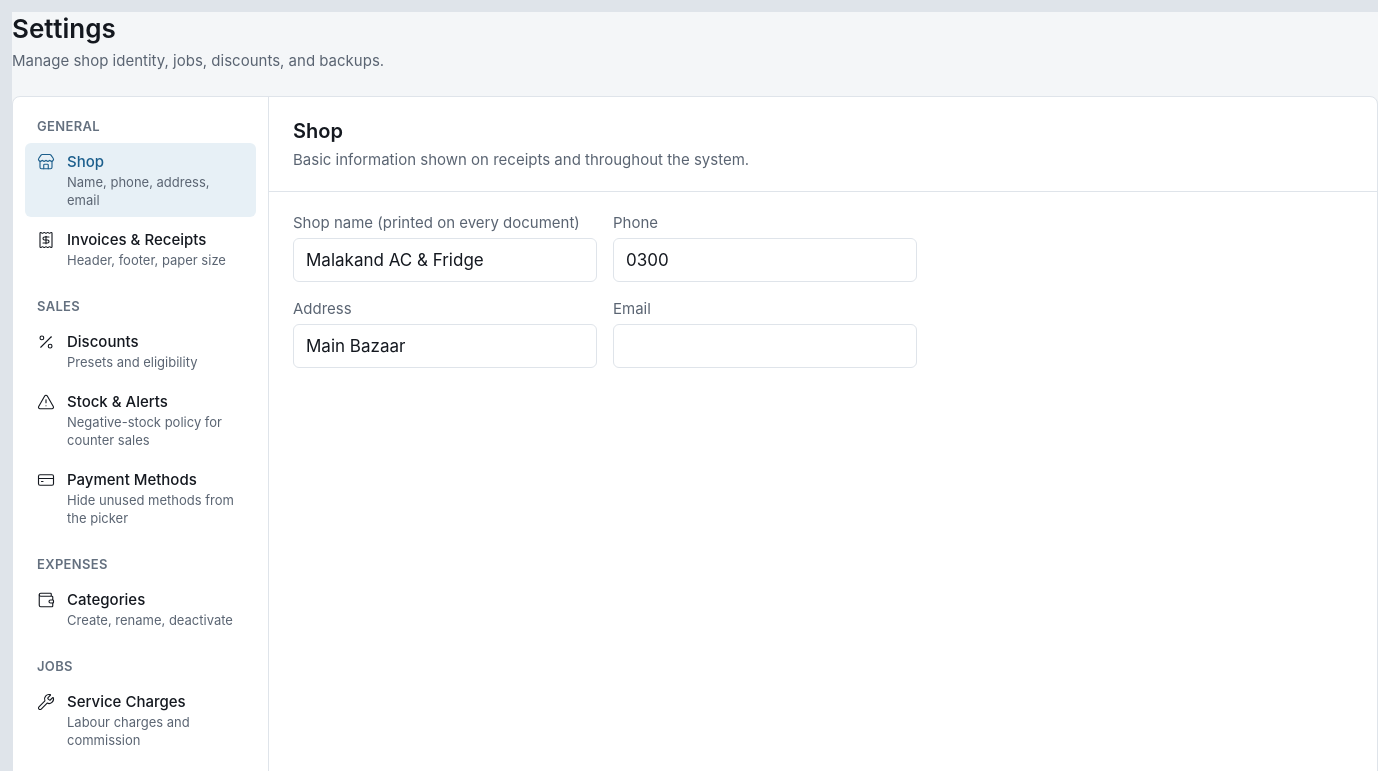
it: SettingsPage — P16-1b routing (OD-16-11) › clicking "Service Charges" in the sub-nav routes to its section and shows its title
The width and height of the screenshot is (1378, 771).
Expected: the text "Basic information shown on receipts and throughout the system." is shown, top-left (293, 150), bottom-right (749, 169)
What coordinates should you click on to do the following:
click the link "Service Charges Labour charges and commission"
I would click on:
 (113, 720)
Its box is top-left (37, 692), bottom-right (190, 748).
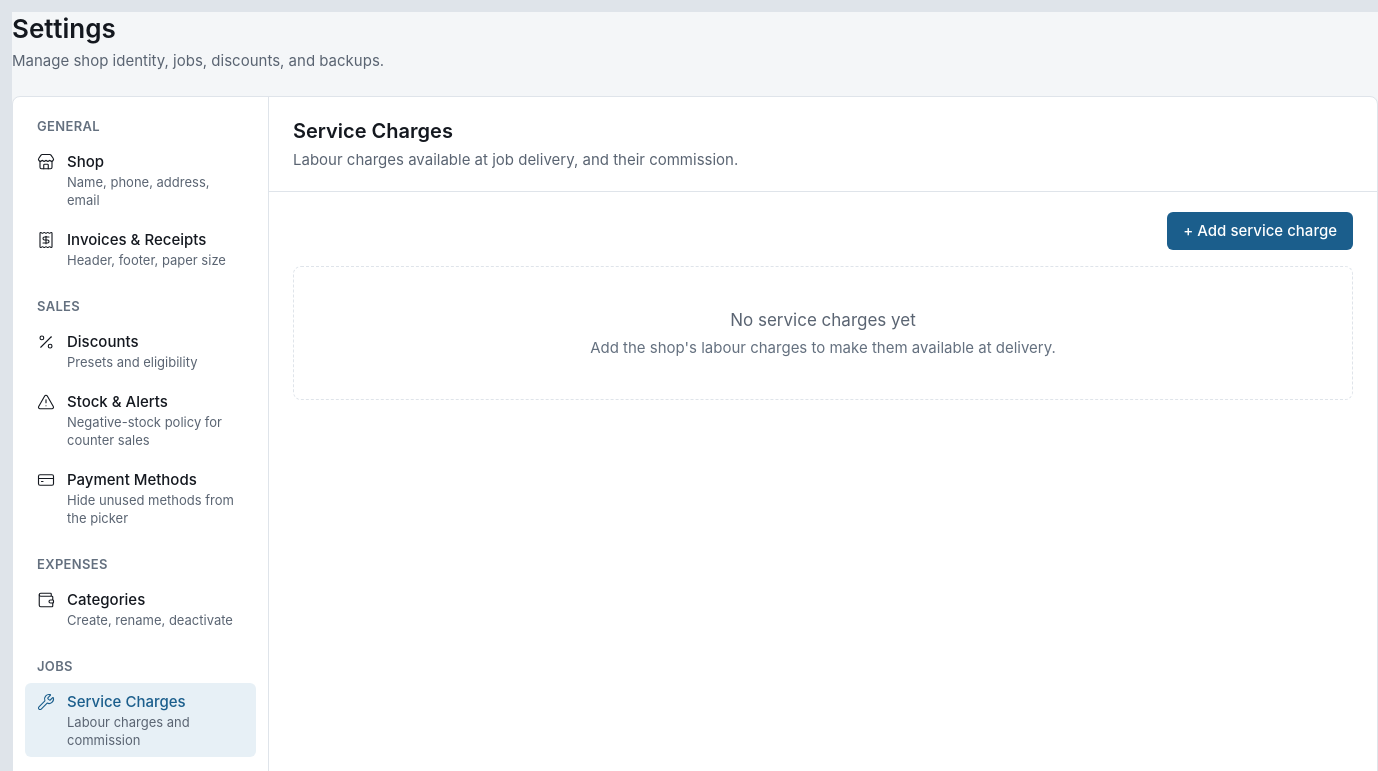
Result: the heading "Service Charges" is shown at top-left (293, 119), bottom-right (453, 143)
